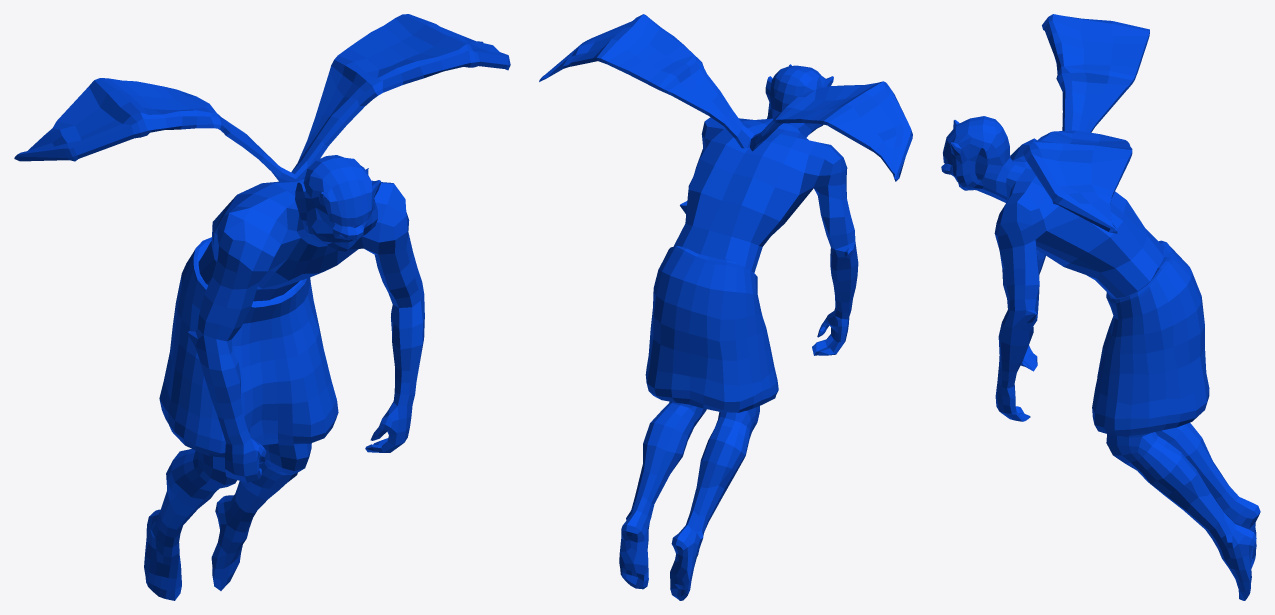
File: letec_lp.fbx
The picture shows the model from 3 angles, left to right: view 1: azimuth 30°, elevation 25°; view 2: azimuth 150°, elevation 25°; view 3: azimuth 270°, elevation 25°; orthographic projection. The views are drawn at different scales.
Parts seen in each view (by area): view 1: telo_lp, wings_lp, sukna_lp; view 2: telo_lp, sukna_lp, wings_lp; view 3: telo_lp, sukna_lp, wings_lp.
Boxes of the visible parts, x1,y1,x2,y2 form: telo_lp: (144,155,424,600); wings_lp: (14,14,510,182); sukna_lp: (159,237,338,457); telo_lp: (619,64,858,600); sukna_lp: (645,246,778,412); wings_lp: (539,14,912,181); telo_lp: (941,116,1260,600); sukna_lp: (1092,240,1209,435); wings_lp: (1023,14,1149,233).
Size of the model in its own units: 1327 by 1647 by 941.
